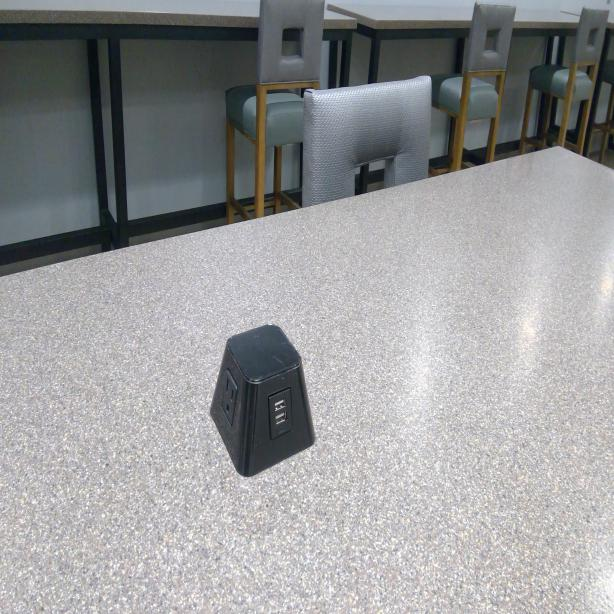typeb: (222, 373, 238, 420)
